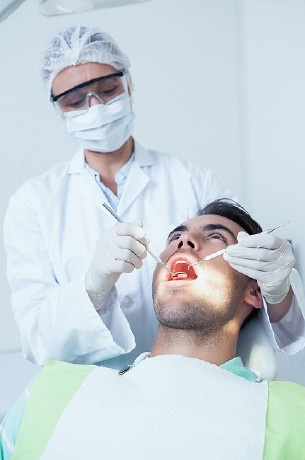Mask: (60, 78, 136, 155)
